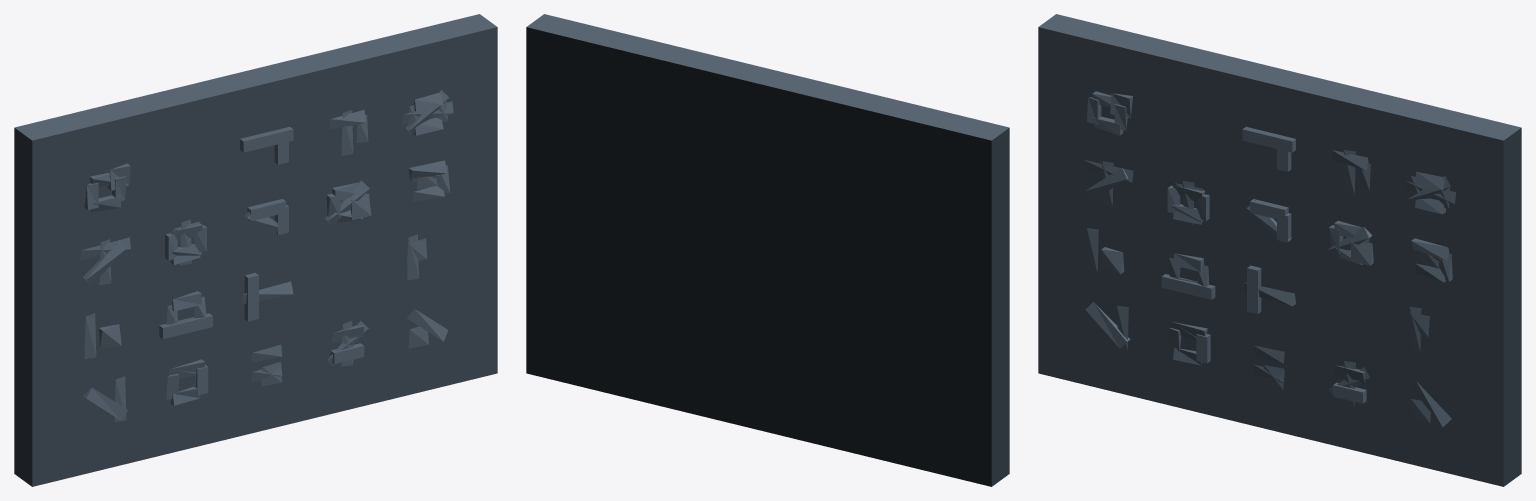
Rendered from ruins_find_slate.obj.
The picture shows the model from 3 angles, left to right: view 1: azimuth 30°, elevation 25°; view 2: azimuth 150°, elevation 25°; view 3: azimuth 330°, elevation 25°; orthographic projection.
Visible parts, largest first — view 1: piece; view 2: piece; view 3: piece.
Part boxes in pixels (x1,y1,x2,y2): piece: (14, 14, 497, 486); piece: (526, 14, 1009, 486); piece: (1038, 14, 1521, 486).
Bounding box in the file's own units: 0.45 × 0.32 × 0.036.
1 material, 1 textured.
